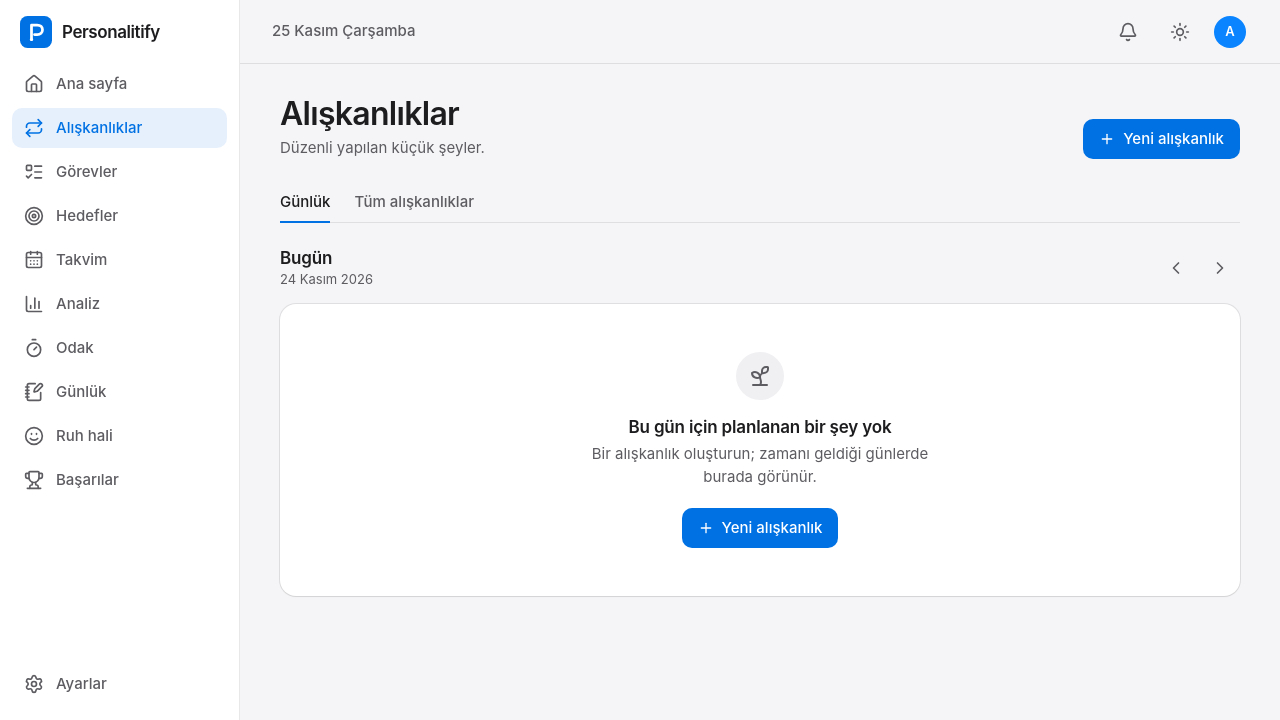
Test: habits day view › moves between days by asking the server for each date
The width and height of the screenshot is (1280, 720).
Expected: the heading "Bugün" is shown, x1=280 y1=248 x2=332 y2=268
Expected: the heading "Bu gün için planlanan bir şey yok" is shown, x1=628 y1=416 x2=892 y2=439
Click the button named "Önceki gün" at (1176, 268), box x1=1156 y1=248 x2=1196 y2=288
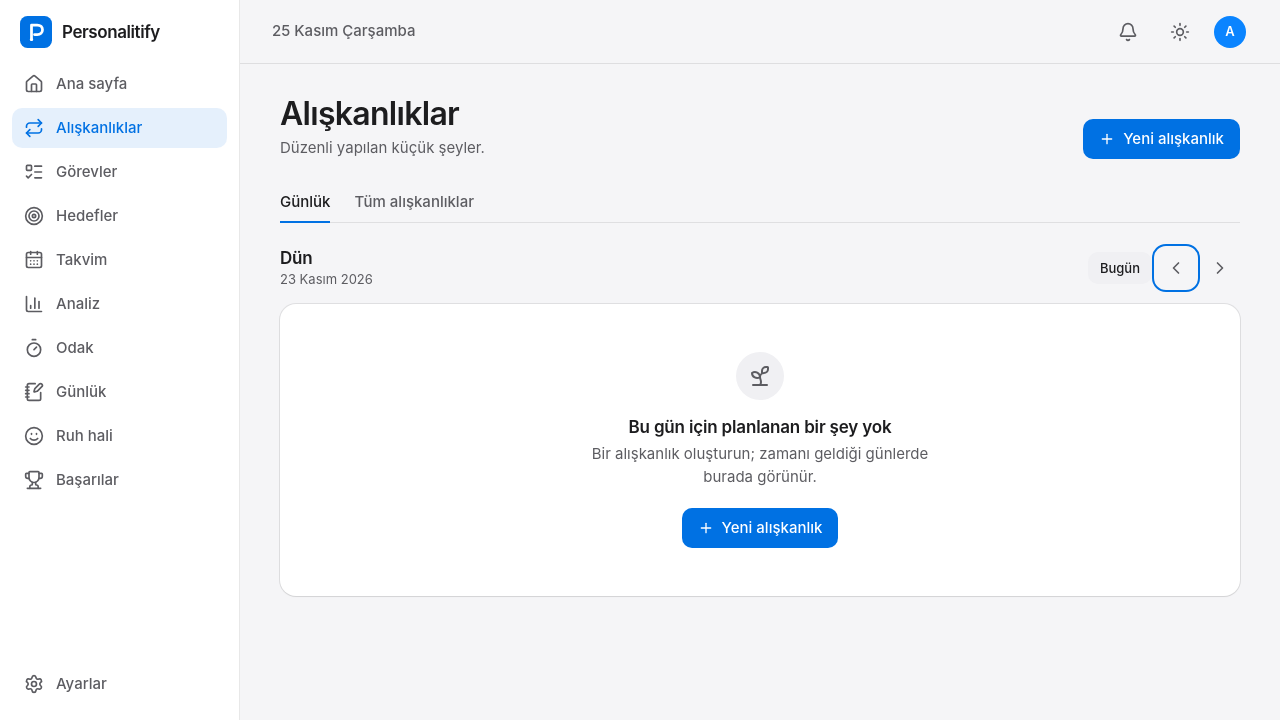
Expected: the heading "Dün" is shown, x1=280 y1=248 x2=313 y2=268
Click the button "Bugün" at (1120, 268), box x1=1088 y1=252 x2=1152 y2=284
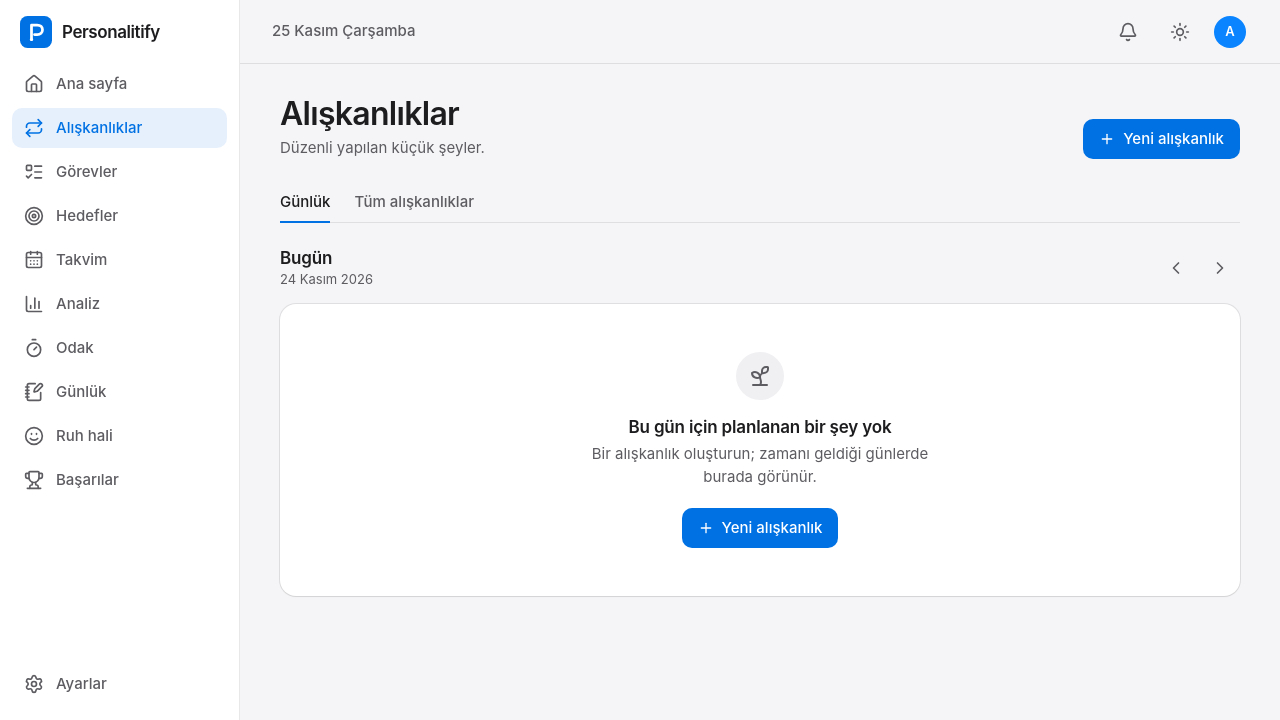
Expected: the heading "Bugün" is shown, x1=280 y1=248 x2=332 y2=268
